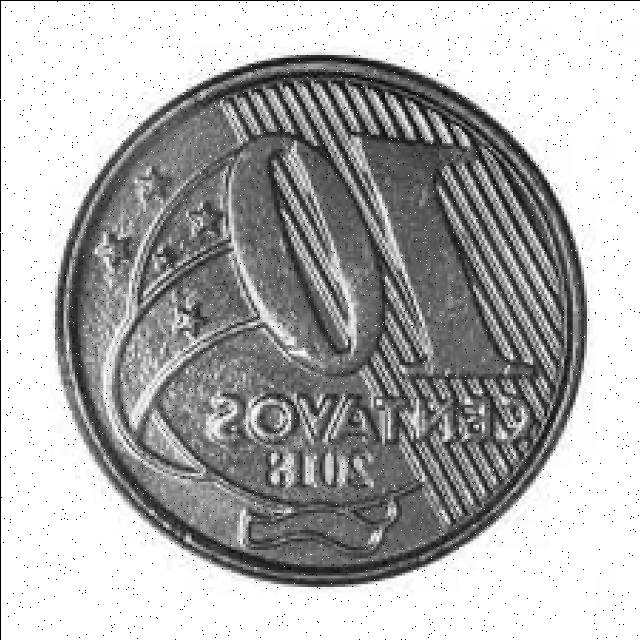10 cent: (61, 51, 577, 569)
